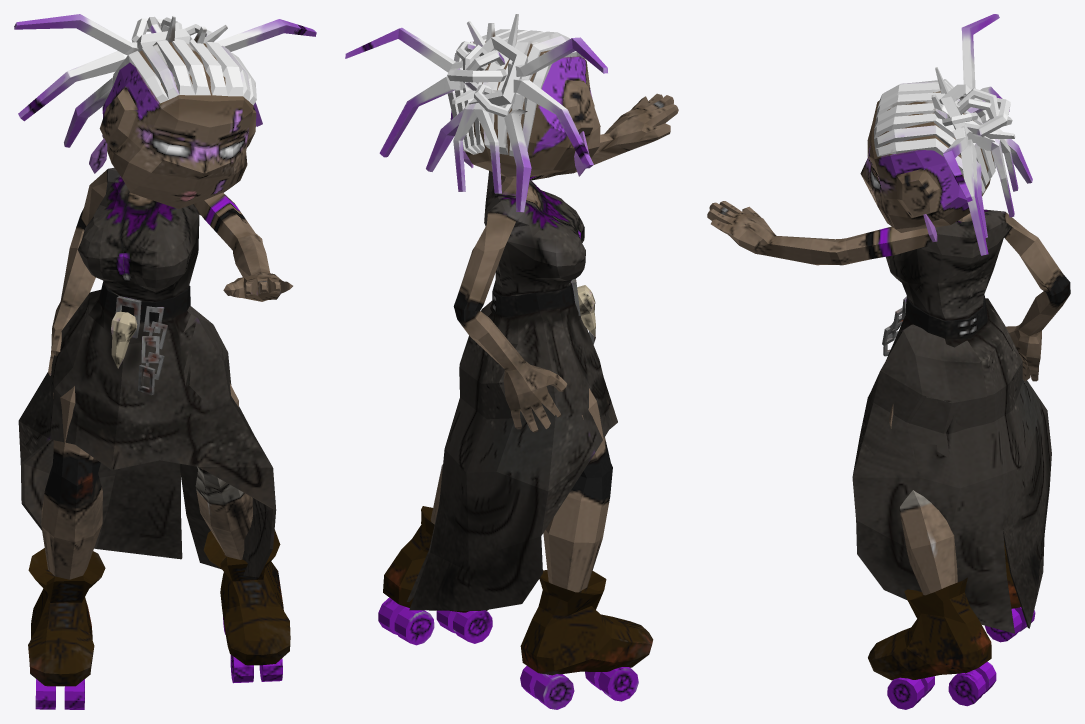
Rendered from bruja_000032.obj.
The picture shows the model from 3 angles, left to right: view 1: azimuth 30°, elevation 25°; view 2: azimuth 150°, elevation 25°; view 3: azimuth 270°, elevation 25°; orthographic projection. The views are drawn at different scales.
Visible parts, largest first — view 1: Bruja_Plane.001; view 2: Bruja_Plane.001; view 3: Bruja_Plane.001.
Part boxes in pixels (x1=…): Bruja_Plane.001: x1=14, y1=14, x2=316, y2=709; Bruja_Plane.001: x1=345, y1=14, x2=678, y2=709; Bruja_Plane.001: x1=707, y1=14, x2=1070, y2=709.
Size of the model in its own units: 7.65 by 16.49 by 8.89.
